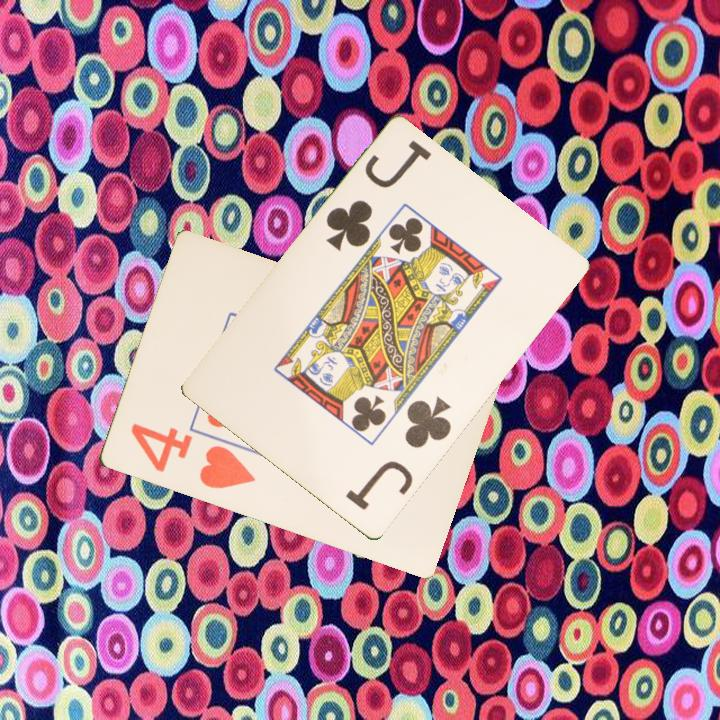4h: (126, 419, 258, 492)
Jc: (342, 394, 455, 514), (322, 136, 435, 255)
